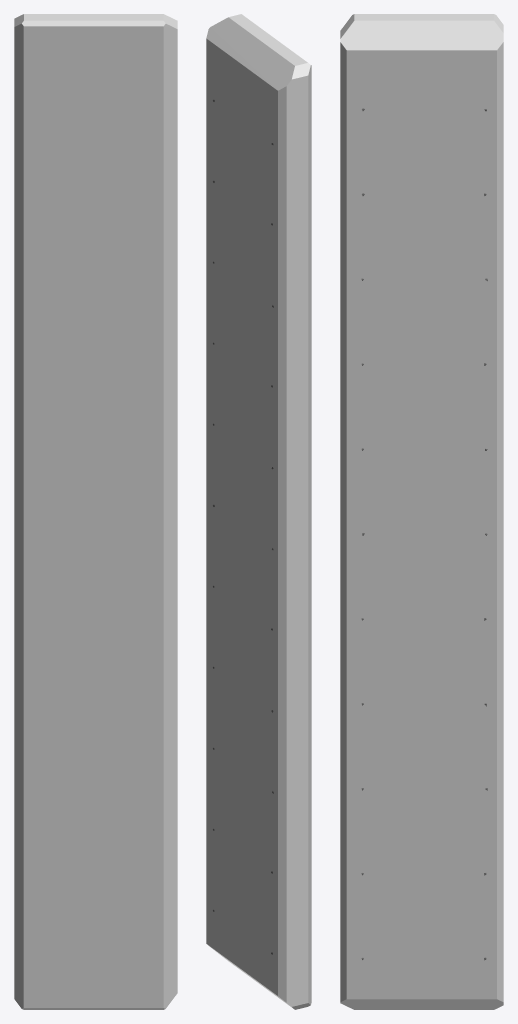
Rendered from SM_ladder_01.fbx.
The picture shows the model from 3 angles, left to right: view 1: azimuth 90°, elevation 25°; view 2: azimuth 210°, elevation 25°; view 3: azimuth 270°, elevation 25°; orthographic projection. The views are drawn at different scales.
Parts seen in each view (by area): view 1: SM_ladder_01_ConvexHulls; view 2: SM_ladder_01_ConvexHulls; view 3: SM_ladder_01_ConvexHulls.
Boxes of the visible parts, x1,y1,x2,y2 form: SM_ladder_01_ConvexHulls: (14, 14, 177, 1009); SM_ladder_01_ConvexHulls: (206, 14, 311, 1009); SM_ladder_01_ConvexHulls: (340, 14, 503, 1009).
Bounding box in the file's own units: 20.31 × 74.89 × 500.
